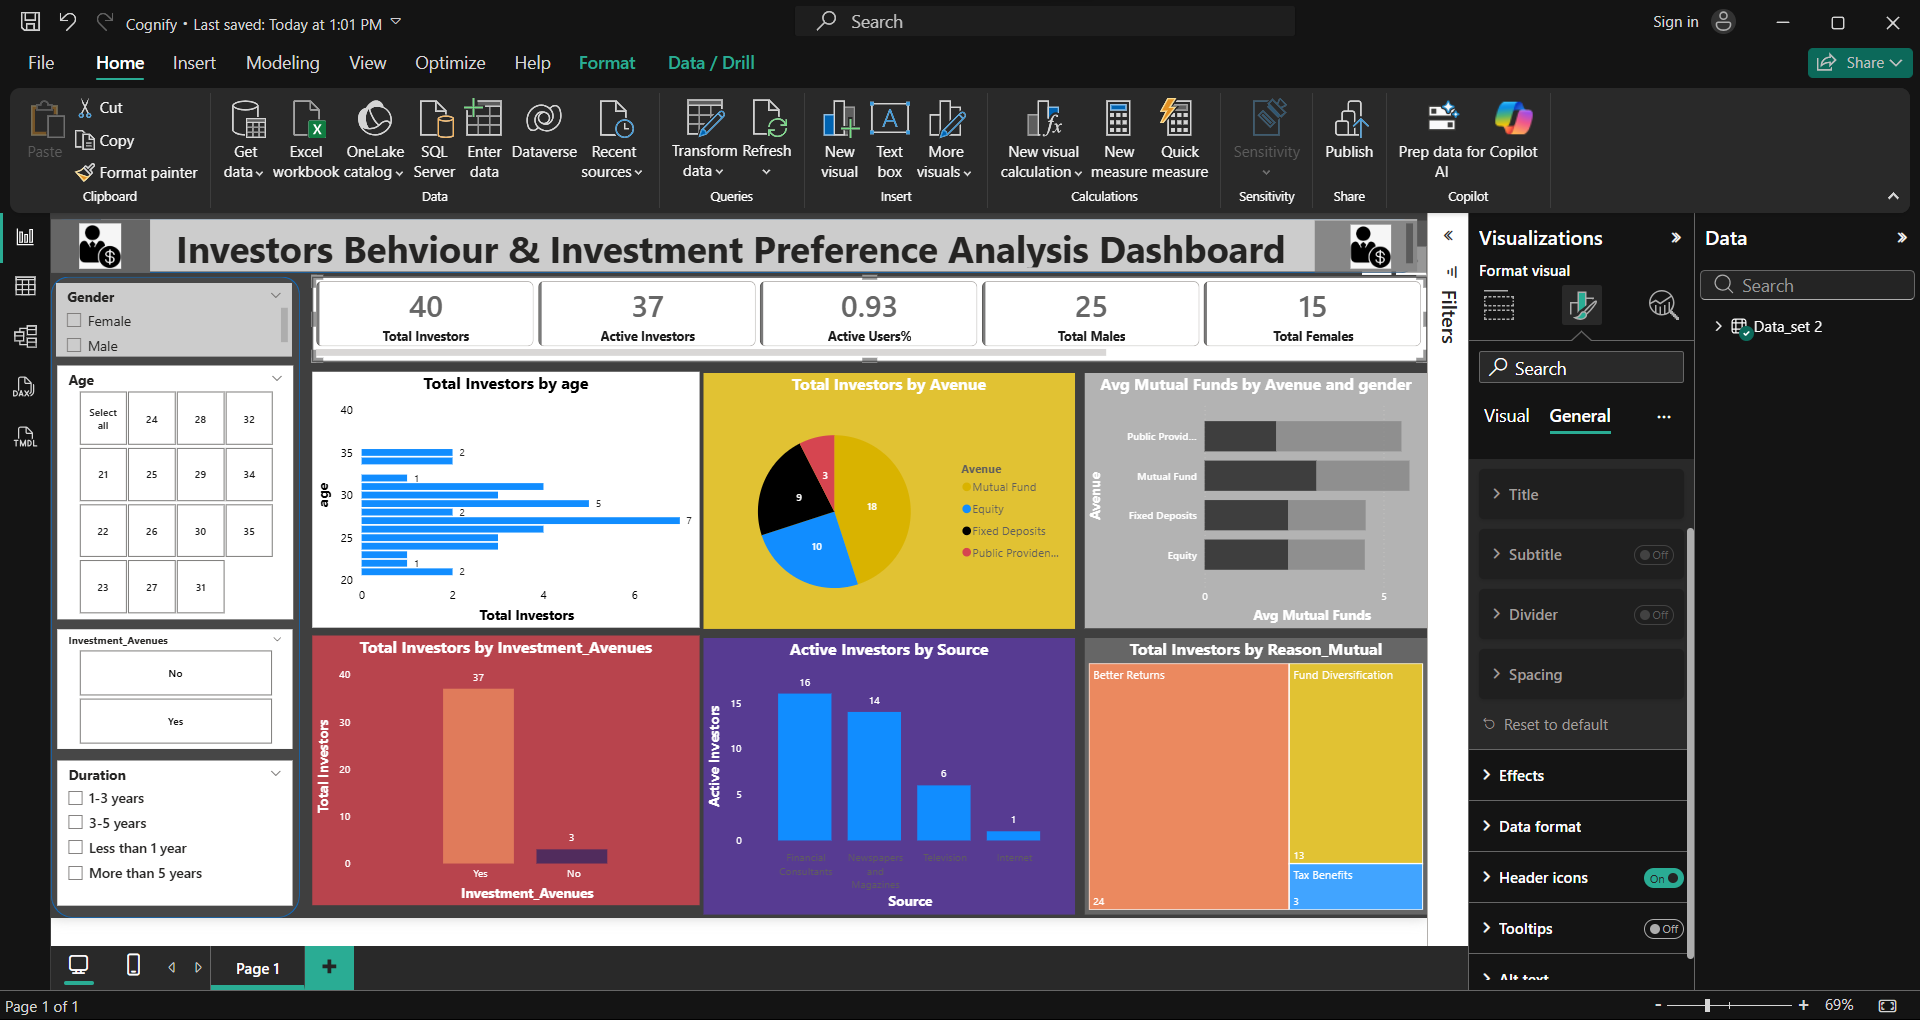

The dashboard page shown, as its layout file describes it:
{"tool":"powerbi","page":{"name":"Page 1","canvas":[1600,820],"ordinal":0},"visuals":[{"type":"shape","box":[0,74.1,289.2,745.6],"z":0},{"type":"cardVisual","fields":{"Data":["Data_set 2.Total Investors","Data_set 2.Active Investors","Data_set 2.Active Users%","Data_set 2.Total Males","Data_set 2.Total Females","Data_set 2.Avg Risk Score","Data_set 2.Avg Mutual Funds"]},"box":[303.6,73.8,1296.7,99.5],"z":1000},{"type":"shape","box":[0,7.3,1585.8,62.5],"z":2000},{"type":"textbox","box":[58.1,7.3,1530.5,61],"z":3000},{"type":"clusteredColumnChart","fields":{"Category":["Data_set 2.Investment_Avenues"],"Y":["Data_set 2.Total Investors"]},"box":[303.8,491.3,450.6,314],"z":4000},{"type":"pieChart","fields":{"Category":["Data_set 2.Avenue"],"Y":["Data_set 2.Total Investors"]},"box":[758.7,186,431.7,298],"z":5000},{"type":"clusteredBarChart","fields":{"Category":["Data_set 2.age"],"Y":["Data_set 2.Total Investors"]},"box":[303.8,184.6,450.6,298],"z":6000},{"type":"barChart","fields":{"Category":["Data_set 2.Avenue"],"Series":["Data_set 2.gender"],"Y":["Data_set 2.Avg Mutual Funds"]},"box":[1202,186,398.3,296.5],"z":7000},{"type":"treemap","fields":{"Group":["Data_set 2.Reason_Mutual"],"Values":["Data_set 2.Total Investors"]},"box":[1202,494.2,398.3,321.2],"z":8000},{"type":"image","box":[0,7.3,114.8,62.5],"z":9000},{"type":"image","box":[1469.5,8.7,130.8,61],"z":10000},{"type":"clusteredColumnChart","fields":{"Category":["Data_set 2.Source"],"Y":["Data_set 2.Active Investors"]},"box":[758.7,494.2,431.7,321.2],"z":11000},{"type":"slicer","fields":{"Values":["Data_set 2.age"]},"box":[7.3,177.3,274.7,295.1],"z":12000},{"type":"slicer","fields":{"Values":["Data_set 2.gender"]},"box":[5.8,81.4,274.7,85.8],"z":13000},{"type":"slicer","fields":{"Values":["Data_set 2.Investment_Avenues"]},"box":[7.3,484,273.3,139.5],"z":14000},{"type":"slicer","fields":{"Values":["Data_set 2.Duration"]},"box":[7.3,636.6,273.3,168.6],"z":15000}]}

Visuals, with their boxes on the page's 1600x820 design canvas (x1, y1, x2, y2). These are canvas units, not pixel positions in the 1920x1020 screenshot, which may show the page scaled, cropped or inside an application window:
shape: 0/74/289/820
cardVisual - Data_set 2.Total Investors x Data_set 2.Active Investors: 304/74/1600/173
shape: 0/7/1586/70
textbox: 58/7/1589/68
clusteredColumnChart - Data_set 2.Investment_Avenues x Data_set 2.Total Investors: 304/491/754/805
pieChart - Data_set 2.Avenue x Data_set 2.Total Investors: 759/186/1190/484
clusteredBarChart - Data_set 2.age x Data_set 2.Total Investors: 304/185/754/483
barChart - Data_set 2.Avenue x Data_set 2.gender: 1202/186/1600/482
treemap - Data_set 2.Reason_Mutual x Data_set 2.Total Investors: 1202/494/1600/815
image: 0/7/115/70
image: 1470/9/1600/70
clusteredColumnChart - Data_set 2.Source x Data_set 2.Active Investors: 759/494/1190/815
slicer - Data_set 2.age: 7/177/282/472
slicer - Data_set 2.gender: 6/81/280/167
slicer - Data_set 2.Investment_Avenues: 7/484/281/624
slicer - Data_set 2.Duration: 7/637/281/805
